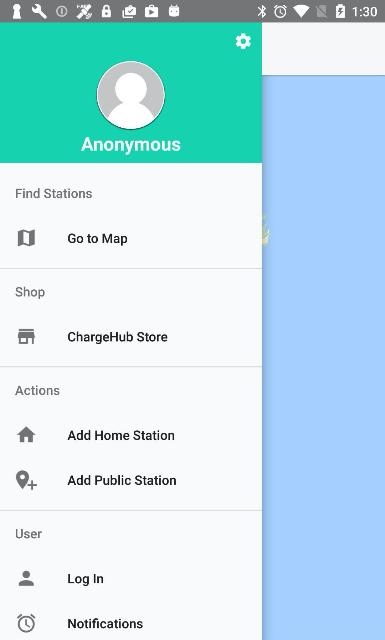Drawer: (1, 23, 262, 639)
Icon: (97, 60, 166, 130), (15, 470, 37, 490), (16, 614, 36, 632), (17, 229, 35, 247), (16, 426, 36, 442), (17, 328, 35, 344), (235, 33, 251, 49), (18, 570, 34, 586)
Text: (81, 137, 181, 155), (66, 473, 176, 485), (68, 332, 168, 344), (68, 430, 174, 440), (67, 232, 128, 245), (15, 188, 93, 198), (67, 618, 142, 628), (15, 384, 60, 396), (68, 574, 104, 586), (15, 286, 45, 300), (16, 528, 42, 538)
UpperTaskBar: (0, 0, 384, 22)
